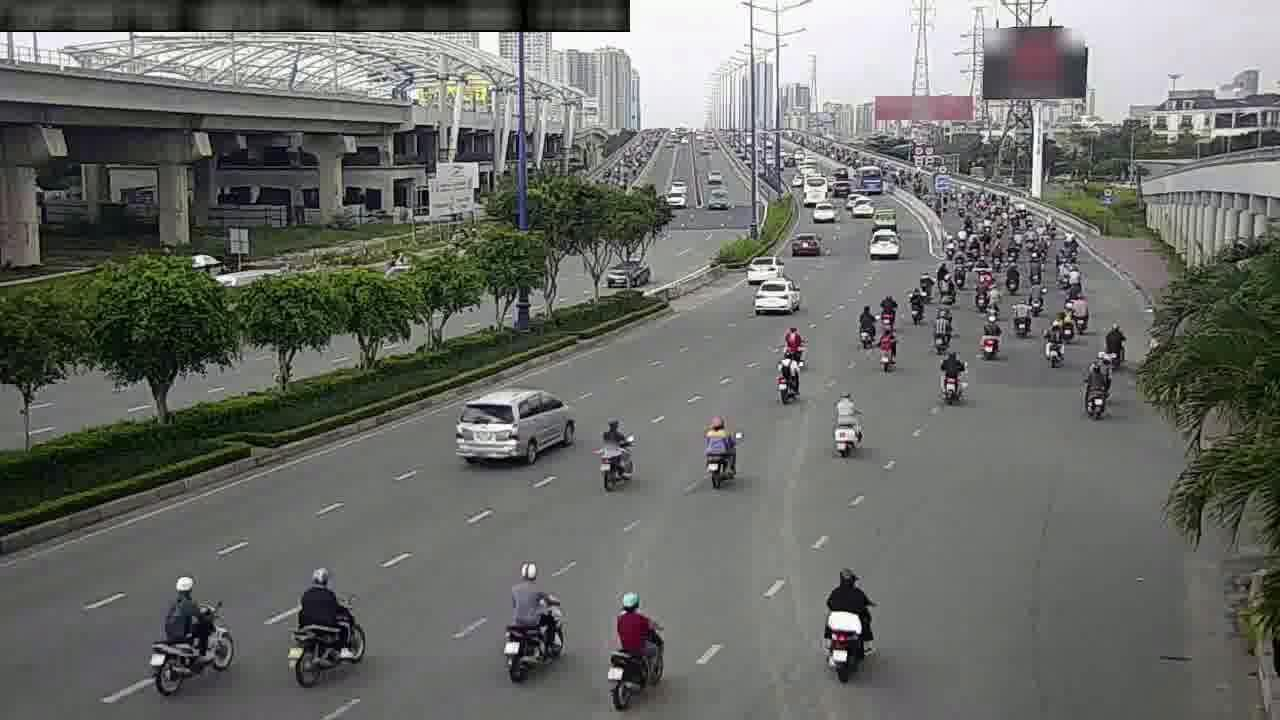container: (455, 380, 574, 461), (750, 275, 797, 317)
motorbike: (286, 559, 367, 688), (148, 572, 230, 697), (499, 556, 569, 680), (605, 582, 668, 711), (822, 559, 878, 684), (595, 410, 640, 491), (701, 407, 741, 488), (831, 383, 863, 460), (1083, 364, 1108, 427), (937, 350, 961, 410), (775, 350, 801, 404), (855, 301, 880, 349), (1104, 323, 1127, 373), (1042, 317, 1065, 367), (782, 322, 807, 362), (878, 329, 899, 376), (932, 305, 953, 347), (1069, 291, 1090, 333), (981, 320, 1002, 361), (1012, 295, 1031, 338), (1025, 278, 1044, 321), (879, 289, 898, 330), (937, 272, 957, 303), (973, 275, 989, 312), (908, 288, 924, 323)
